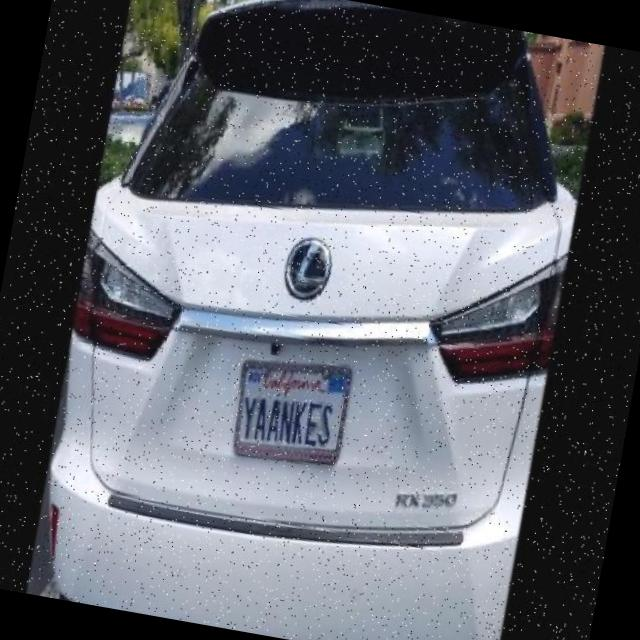LicensePlate: (227, 350, 355, 460)
